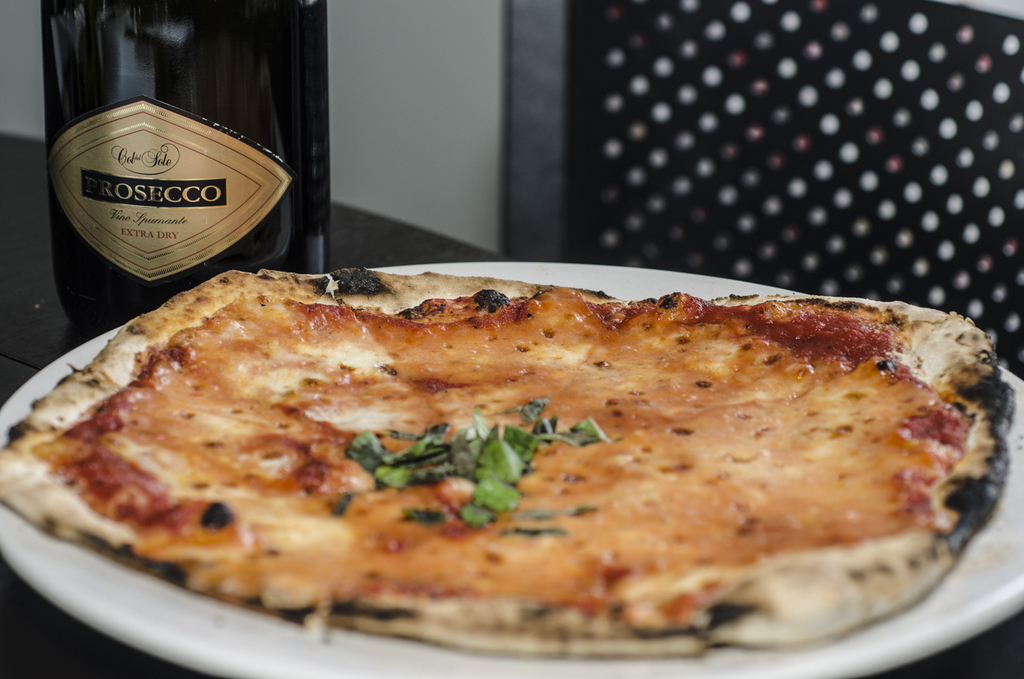Pizza: (0, 247, 1017, 669)
